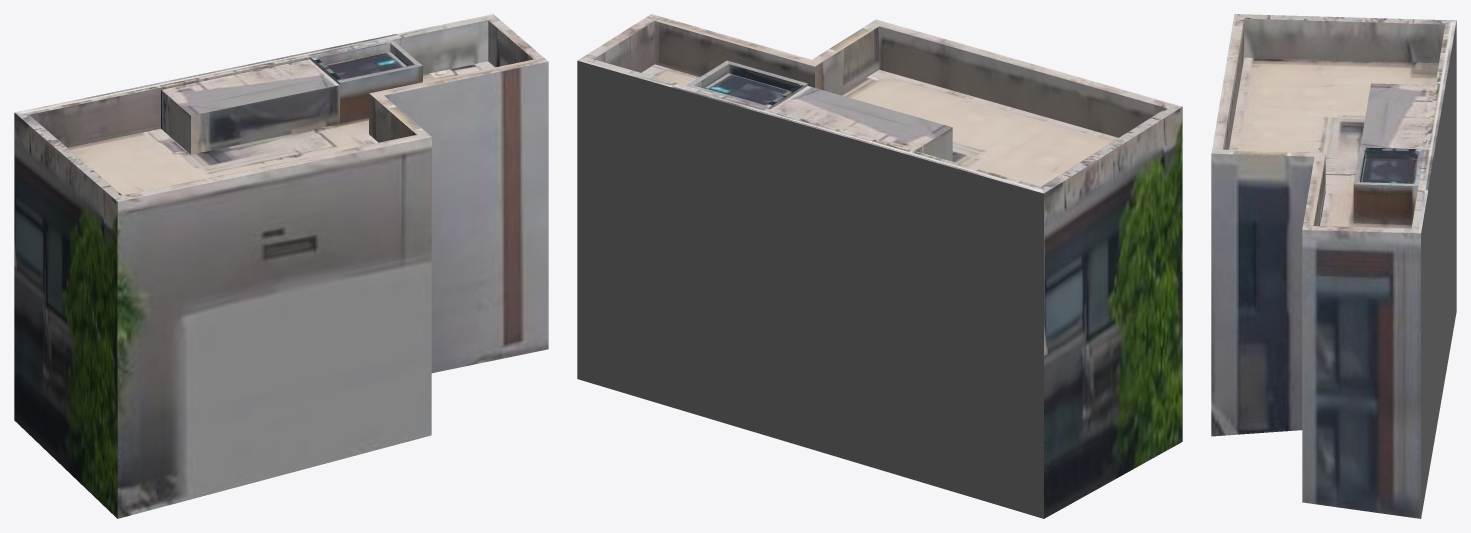
The picture shows the model from 3 angles, left to right: view 1: azimuth 30°, elevation 25°; view 2: azimuth 150°, elevation 25°; view 3: azimuth 270°, elevation 25°; orthographic projection. The views are drawn at different scales.
Visible parts, largest first — view 1: B282744040301062A0; view 2: B282744040301062A0; view 3: B282744040301062A0.
Boxes of the visible parts, x1=… form: B282744040301062A0: x1=14, y1=14, x2=548, y2=518; B282744040301062A0: x1=577, y1=14, x2=1182, y2=518; B282744040301062A0: x1=1211, y1=14, x2=1456, y2=518.
Bounding box in the file's own units: 14.98 × 9.57 × 7.07.
Materials: 1 (1 with a texture image).
